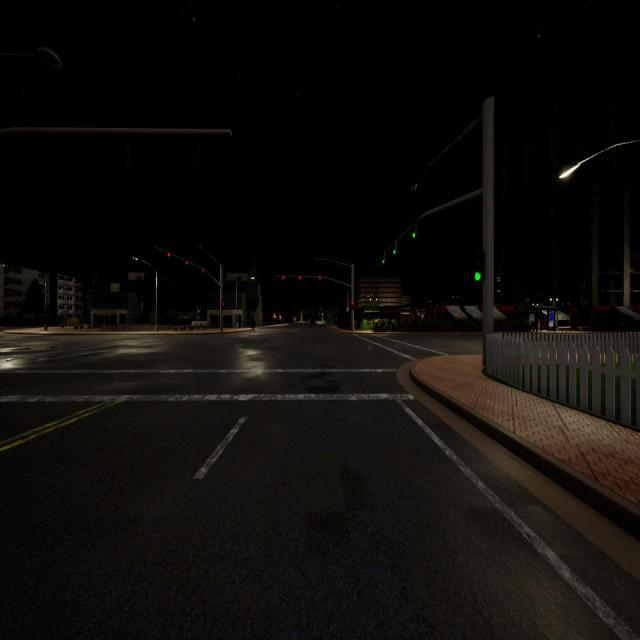Pedestrian: (249, 315, 257, 334)
Vehicle: (310, 319, 316, 325)
traffic_light: (474, 251, 486, 282), (412, 223, 418, 239), (393, 240, 397, 254), (382, 251, 386, 264), (351, 301, 354, 310), (221, 302, 224, 310), (167, 252, 171, 256), (298, 276, 302, 280), (318, 276, 322, 280), (282, 276, 285, 279), (186, 261, 188, 265), (202, 268, 204, 272)
